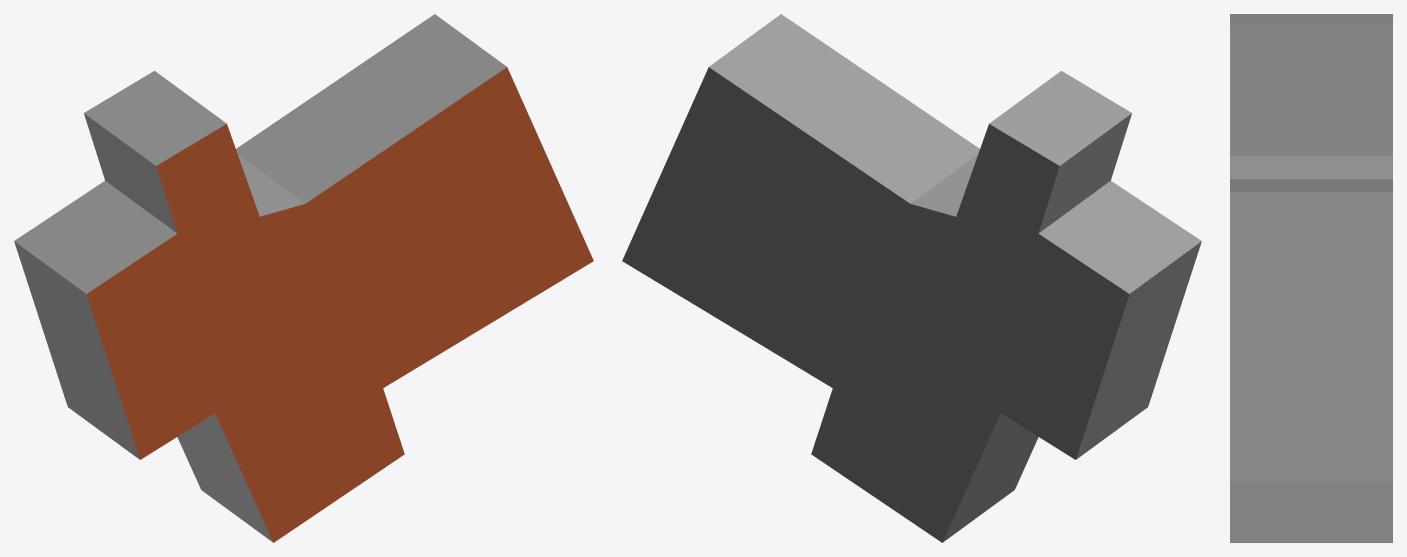
File: construction_4660_assumed_A_Casa_h6m.obj
3 renders of one model, left to right at view 1: azimuth 30°, elevation 25°; view 2: azimuth 150°, elevation 25°; view 3: azimuth 270°, elevation 25°, orthographic. The views are drawn at different scales.
Visible parts, largest first — view 1: construction_4660_assumed_A_Casa; view 2: construction_4660_assumed_A_Casa; view 3: construction_4660_assumed_A_Casa.
Boxes of the visible parts, <box> form: construction_4660_assumed_A_Casa: <box>14,14,593,542</box>; construction_4660_assumed_A_Casa: <box>622,14,1201,542</box>; construction_4660_assumed_A_Casa: <box>1230,14,1392,542</box>.
Size of the model in its own units: 24.27 by 19.68 by 6.
